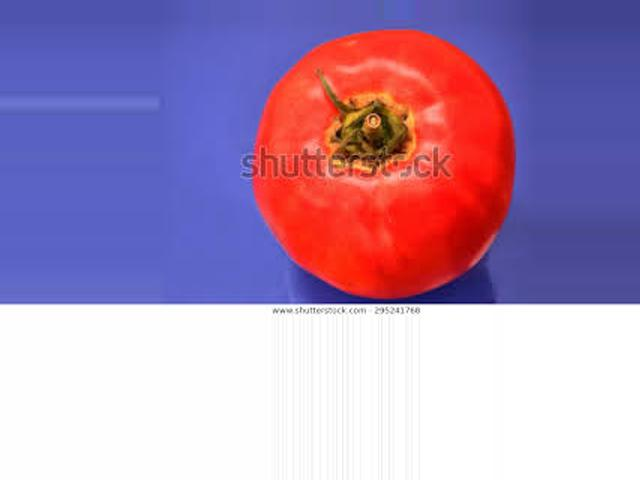tomato: (252, 29, 516, 293)
